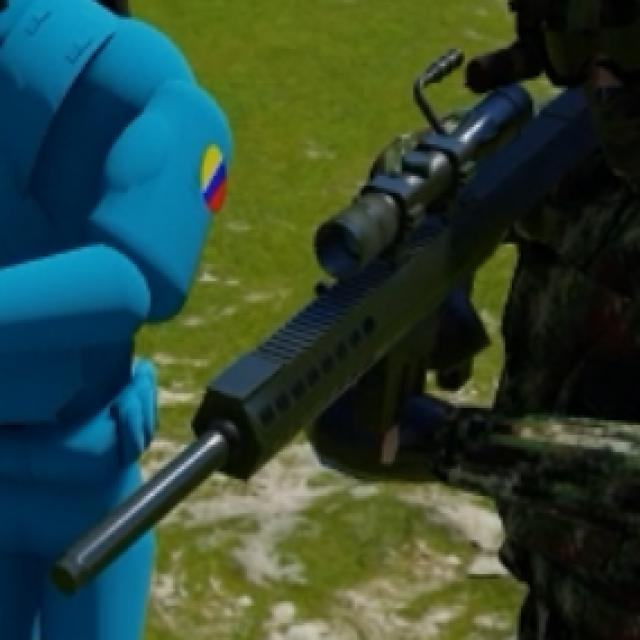RifleTel: (45, 57, 638, 609)
